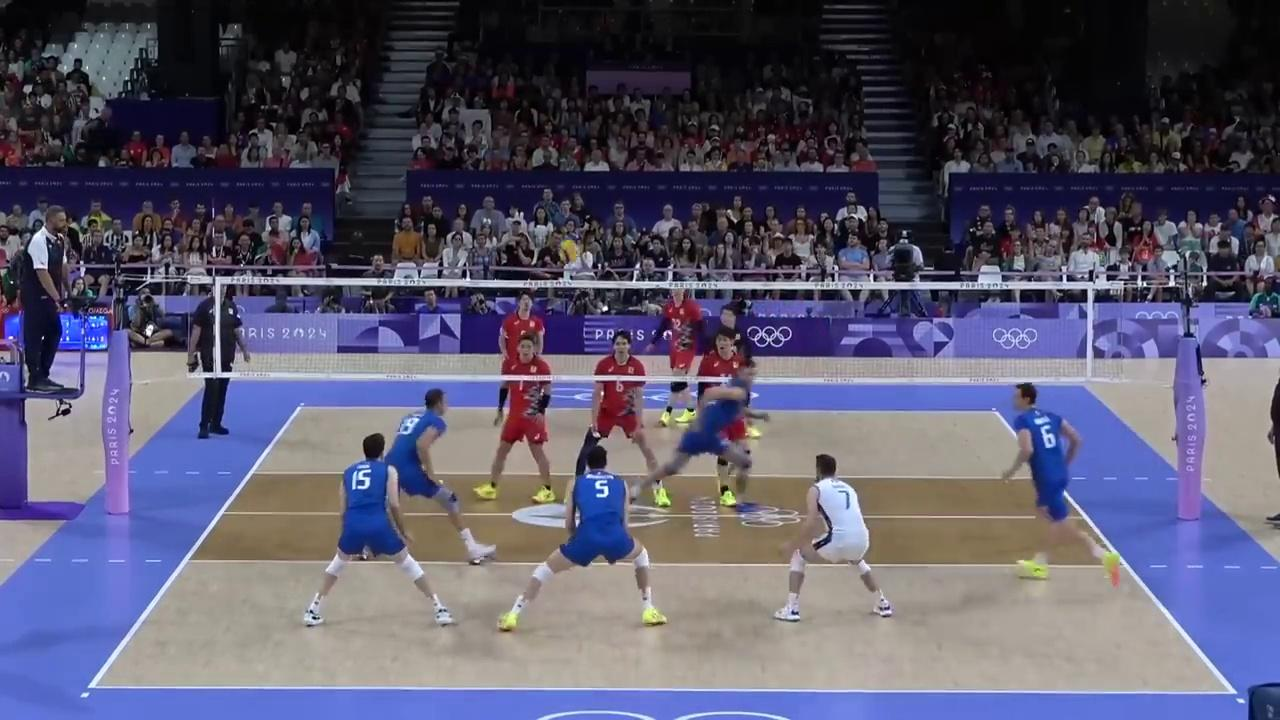ball: (559, 241, 576, 263)
